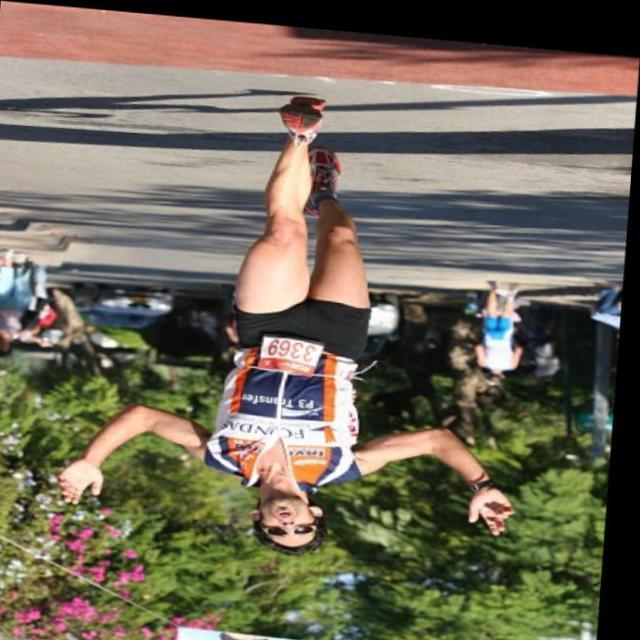dorsal: (256, 325, 330, 374)
